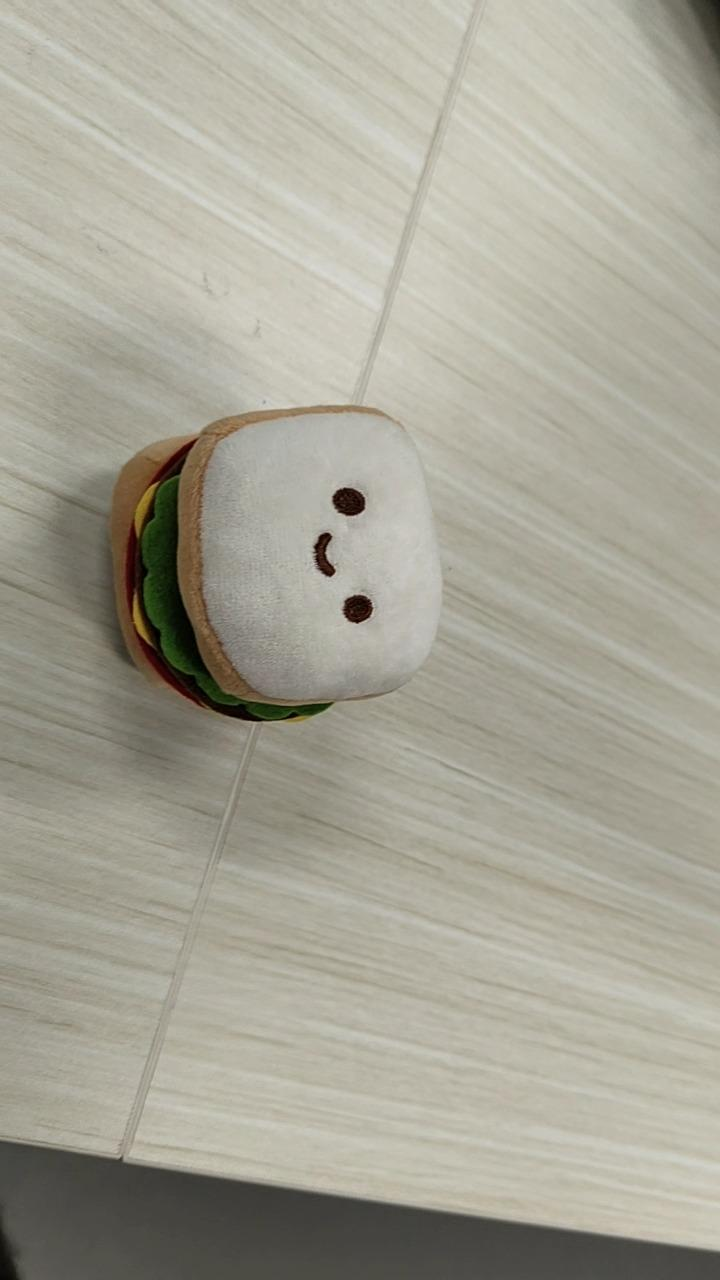objects: (108, 401, 443, 725)
